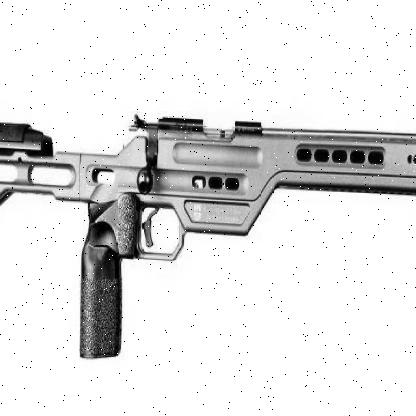rifle: (3, 94, 399, 369)
